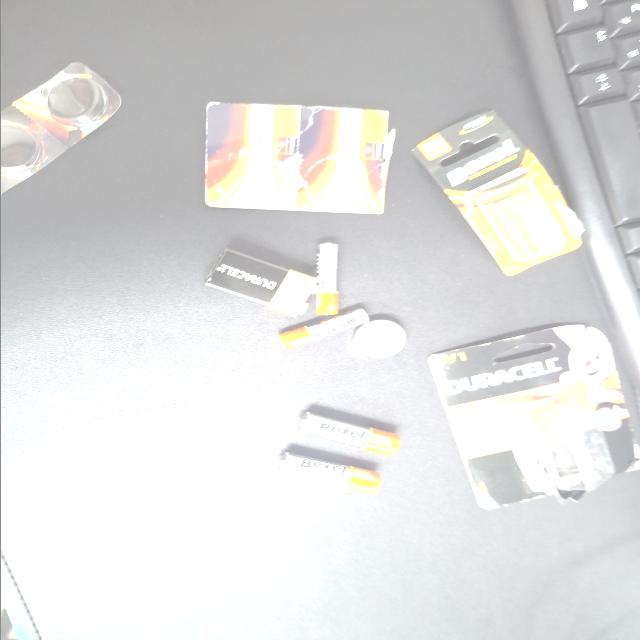9V: (118, 244, 209, 327)
AA: (389, 195, 445, 272), (336, 181, 393, 256)
AAA: (198, 204, 253, 272), (109, 227, 208, 244)
COIN: (212, 176, 264, 215)
